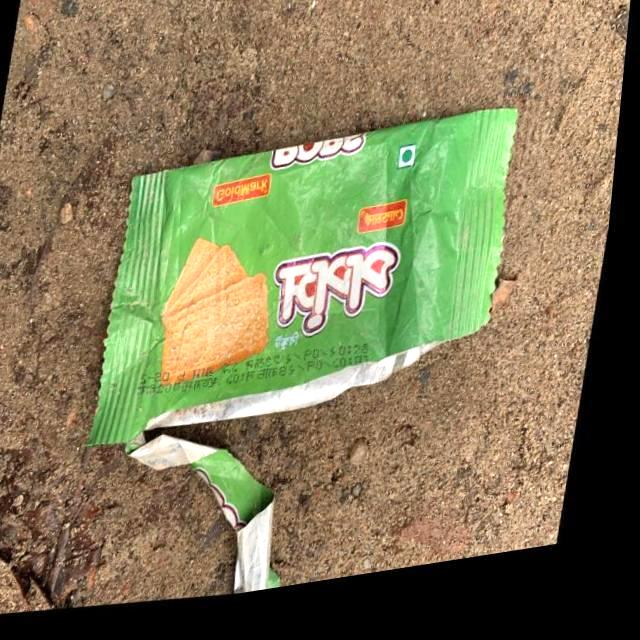packet: (91, 95, 528, 480)
